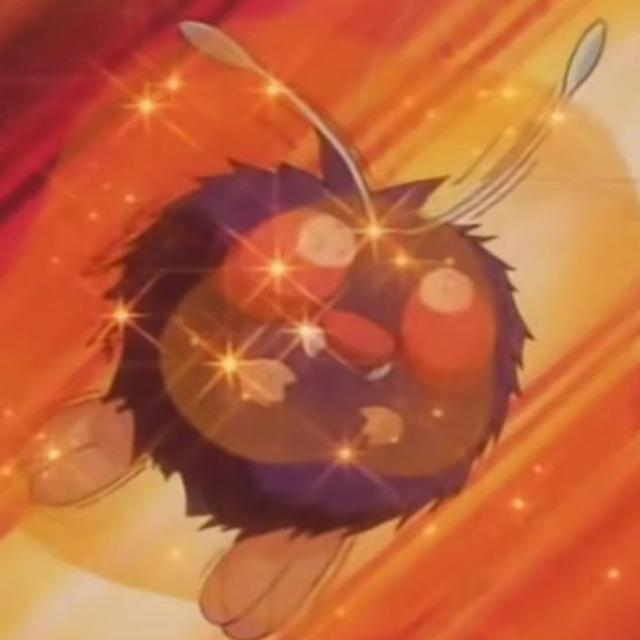Venonat: (91, 159, 530, 573)
